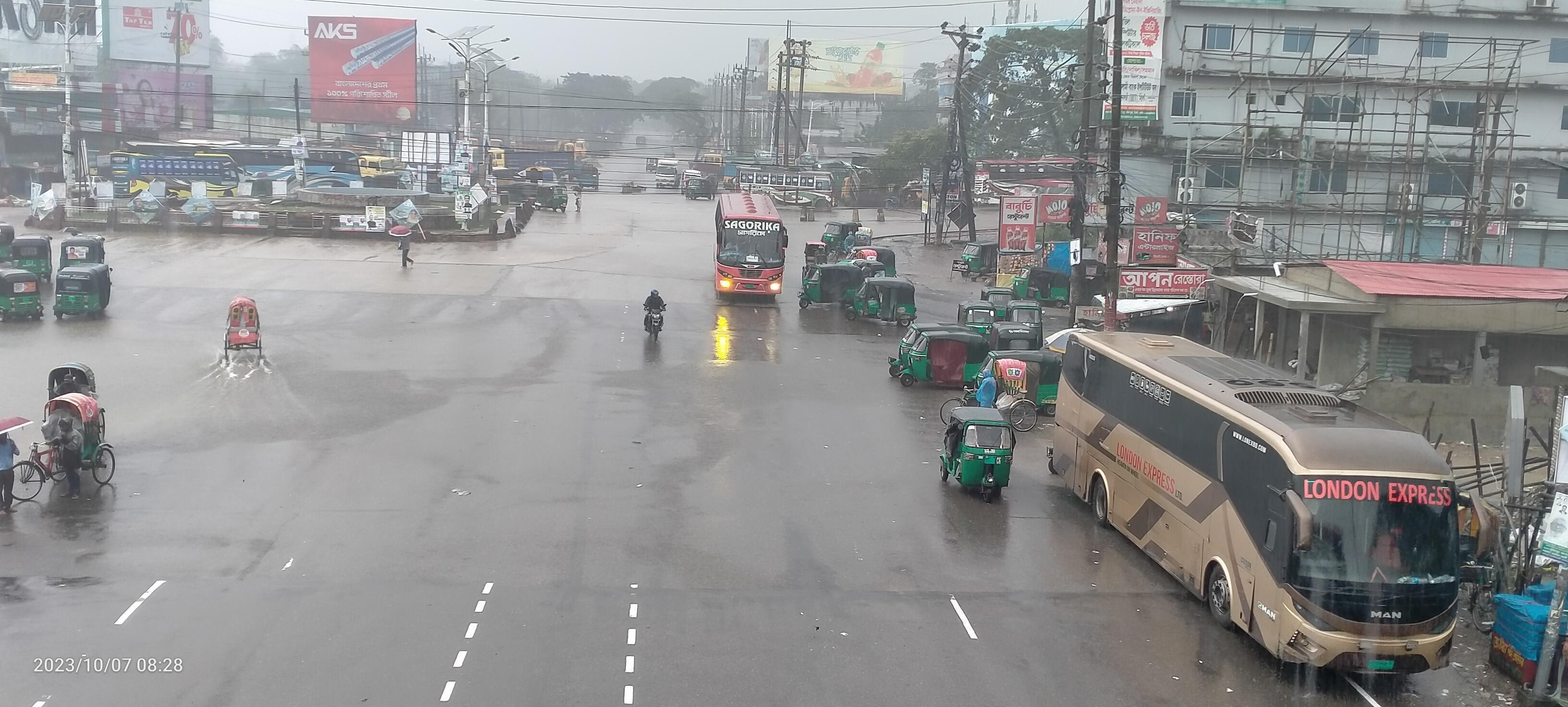Bus: (1028, 298, 1488, 700), (123, 119, 311, 216), (948, 133, 1121, 232), (86, 132, 255, 224), (689, 183, 795, 328), (721, 157, 859, 227), (278, 131, 375, 225)
Car: (7, 359, 126, 518), (927, 355, 1041, 437), (210, 279, 282, 389), (649, 157, 683, 201), (528, 182, 571, 216)
Truck: (479, 136, 586, 182), (348, 136, 415, 208)
